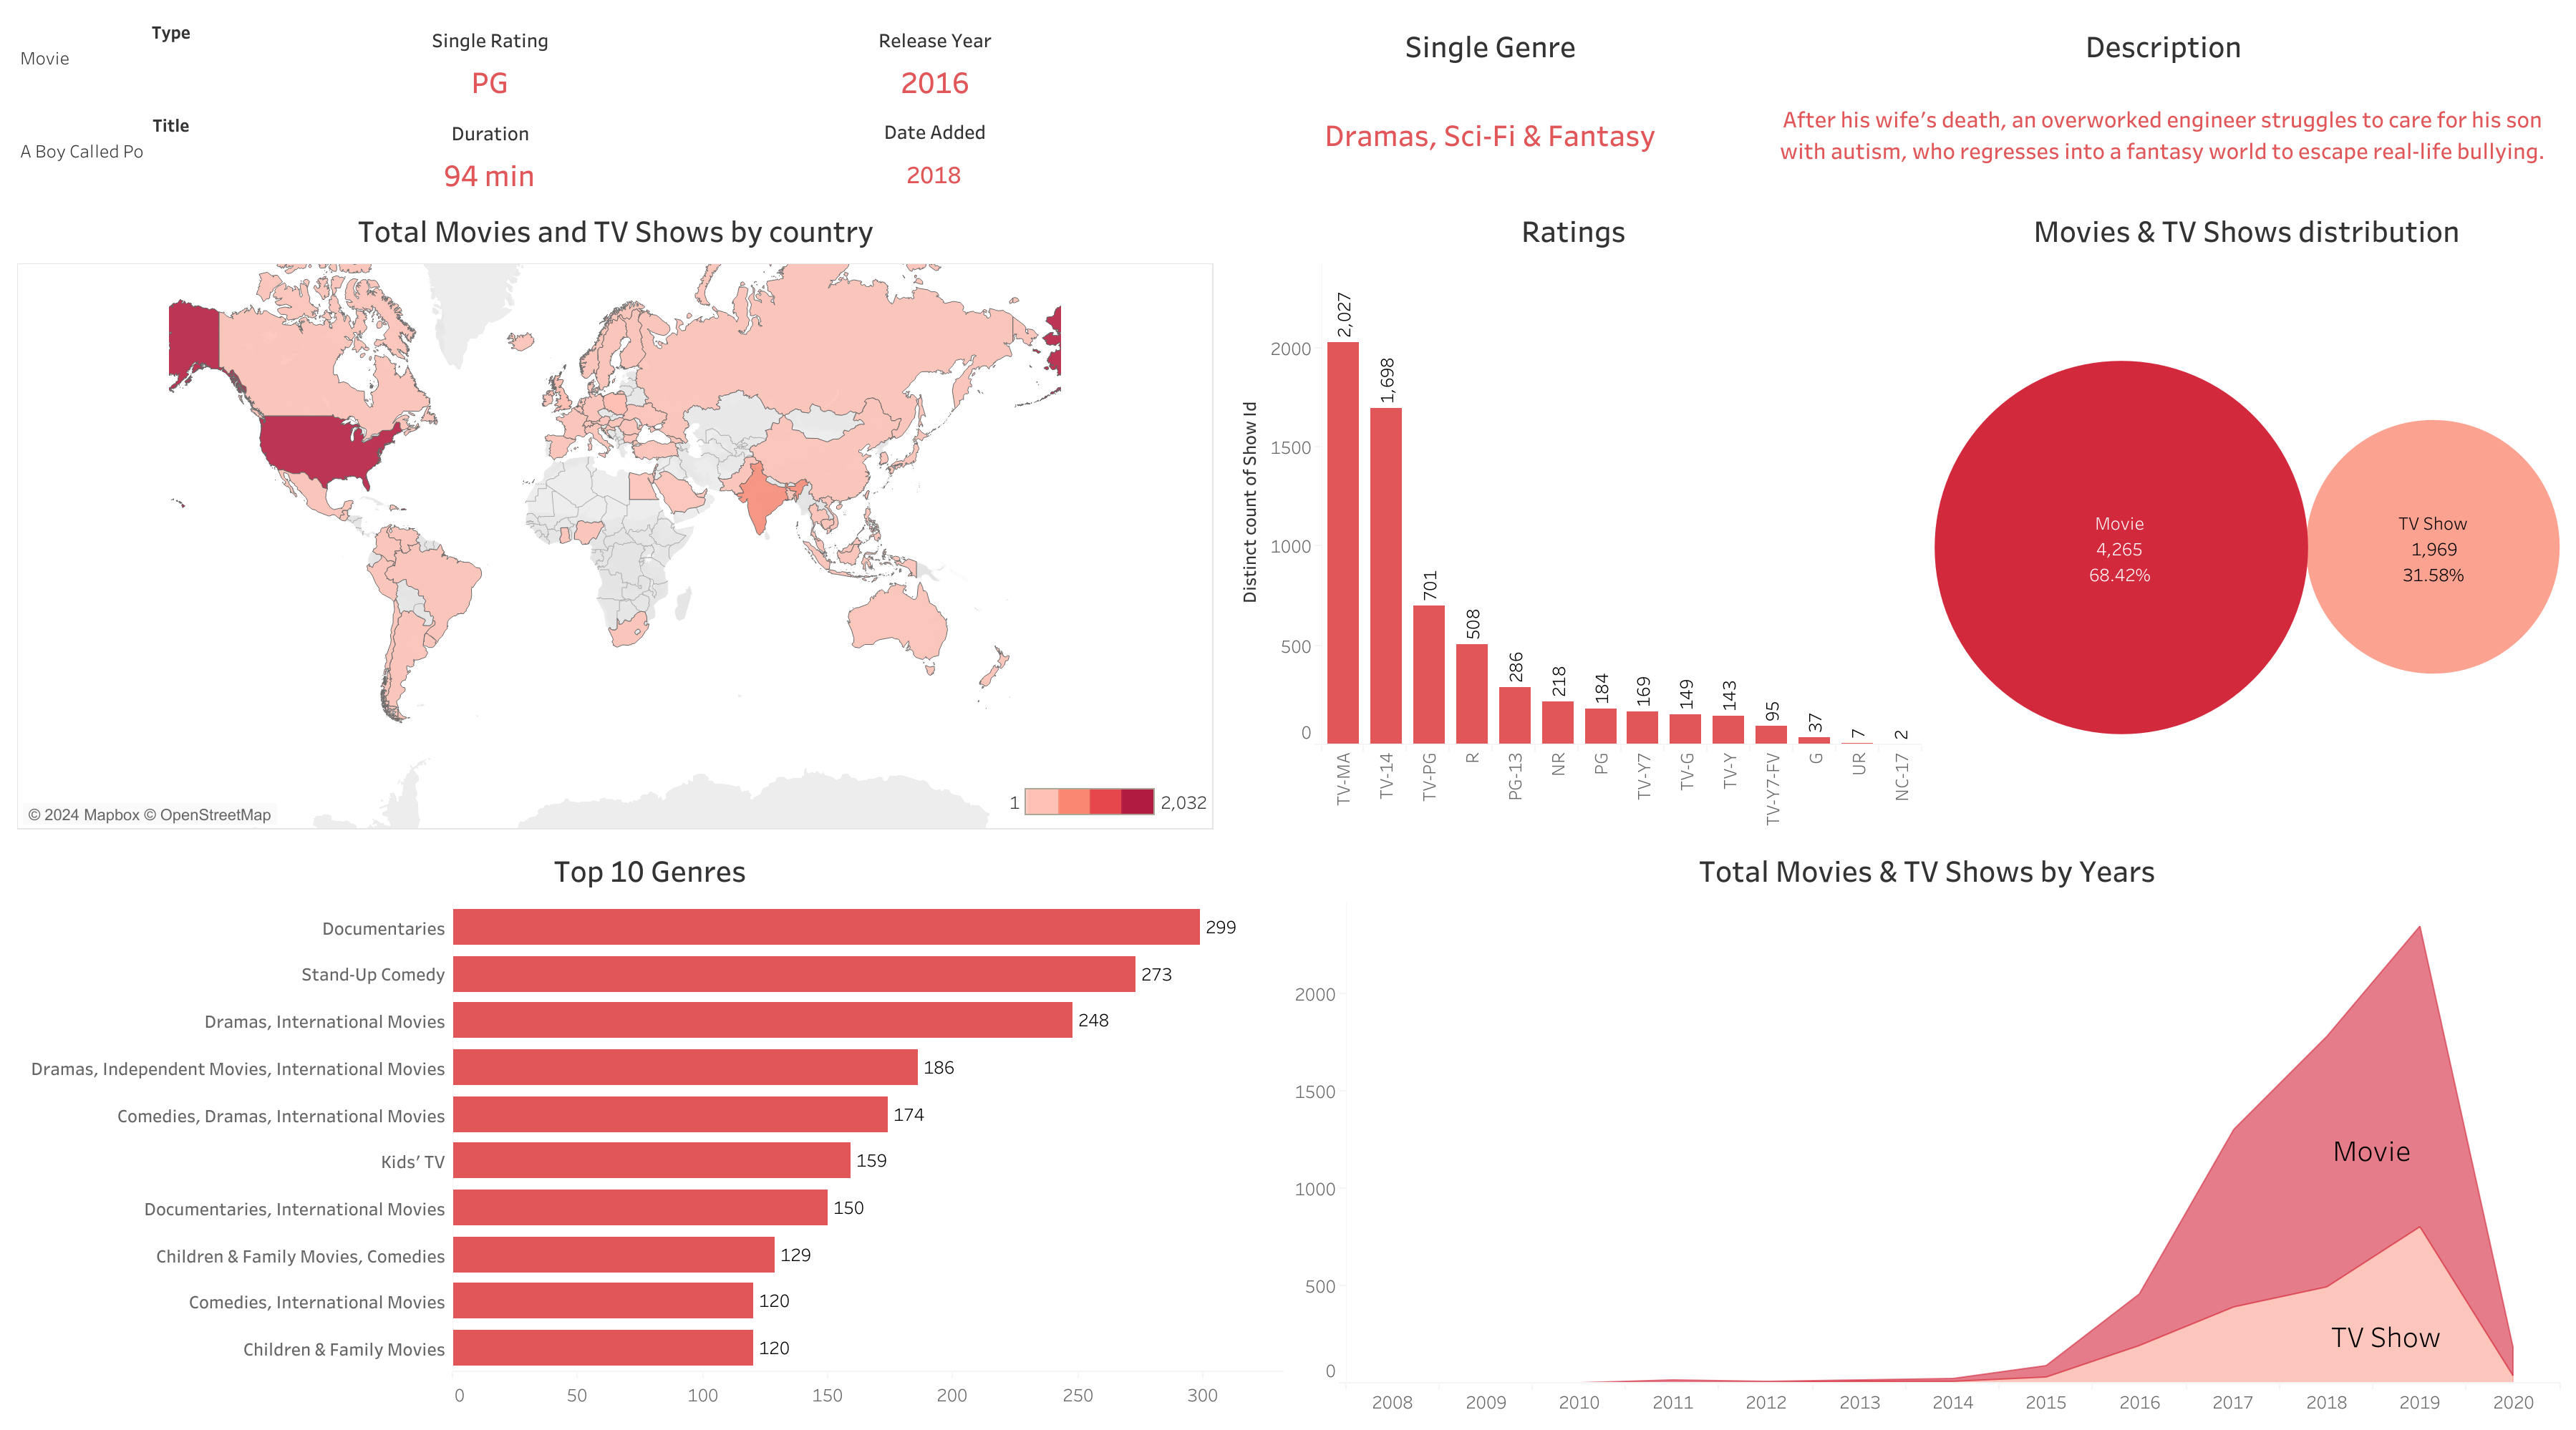

Layout of this report page (visuals, bound fields, positions):
{"tool":"tableau","page":{"name":"Netflix","canvas":[1800,1000],"ordinal":0},"visuals":[{"type":"filter","title":"Description","param":"[federated.0rgp1rs1dejtil16ot6ec195v3x5].[none:type:nk]","box":[8,8,223,64.5]},{"type":"worksheet","title":"Single Rating","mark":"Automatic","box":[231,8,223,64.5]},{"type":"worksheet","title":"Release Year","mark":"Automatic","box":[454,8,398,64]},{"type":"worksheet","title":"Single Genre","mark":"Automatic","box":[852,8,378,129]},{"type":"worksheet","title":"Description","mark":"Automatic","box":[1230,8,562,129]},{"type":"worksheet","title":"Date Added","mark":"Automatic","box":[454,72,398,65]},{"type":"filter","title":"Description","param":"[federated.0rgp1rs1dejtil16ot6ec195v3x5].[none:title:nk]","box":[8,72.5,223,64.5]},{"type":"worksheet","title":"Duration","mark":"Automatic","box":[231,72.5,223,64.5]},{"type":"worksheet","title":"Total Movies and TV Shows by country","mark":"Multipolygon","box":[8,137,843.7,446.8]},{"type":"worksheet","title":"Ratings","mark":"Automatic","rows":["show_id"],"cols":["rating"],"box":[851.7,137,494.3,446.8]},{"type":"worksheet","title":"Movies & TV Shows distribution","mark":"Circle","box":[1346,137,446,446.8]},{"type":"legend","title":"Total Movies and TV Shows by country","param":"[federated.0rgp1rs1dejtil16ot6ec195v3x5].[ctd:show_id:qk]","box":[701,547,147,24]},{"type":"worksheet","title":"Top 10 Genres","mark":"Automatic","rows":["listed_in"],"cols":["show_id"],"box":[8,583.8,892,408.2]},{"type":"worksheet","title":"Total Movies & TV Shows by Years","mark":"Area","rows":["show_id"],"cols":["date_added"],"box":[900,583.8,892,408.2]}]}

Visuals, with their boxes in screenshot pixels (x1, y1, x2, y2), scaled from the page's 1800x1000 canvas onto the 2576x1430 screenshot:
"Description" filter: <region>11, 11, 331, 104</region>
"Single Rating" worksheet: <region>331, 11, 649, 104</region>
"Release Year" worksheet: <region>649, 11, 1219, 103</region>
"Single Genre" worksheet: <region>1219, 11, 1761, 196</region>
"Description" worksheet: <region>1761, 11, 2565, 196</region>
"Date Added" worksheet: <region>649, 103, 1219, 196</region>
"Description" filter: <region>11, 104, 331, 196</region>
"Duration" worksheet: <region>331, 104, 649, 196</region>
"Total Movies and TV Shows by country" worksheet (Multipolygon marks): <region>11, 196, 1219, 835</region>
"Ratings" worksheet: <region>1219, 196, 1927, 835</region>
"Movies & TV Shows distribution" worksheet (Circle marks): <region>1927, 196, 2565, 835</region>
"Total Movies and TV Shows by country" legend: <region>1003, 782, 1214, 817</region>
"Top 10 Genres" worksheet: <region>11, 835, 1288, 1419</region>
"Total Movies & TV Shows by Years" worksheet (Area marks): <region>1288, 835, 2565, 1419</region>
